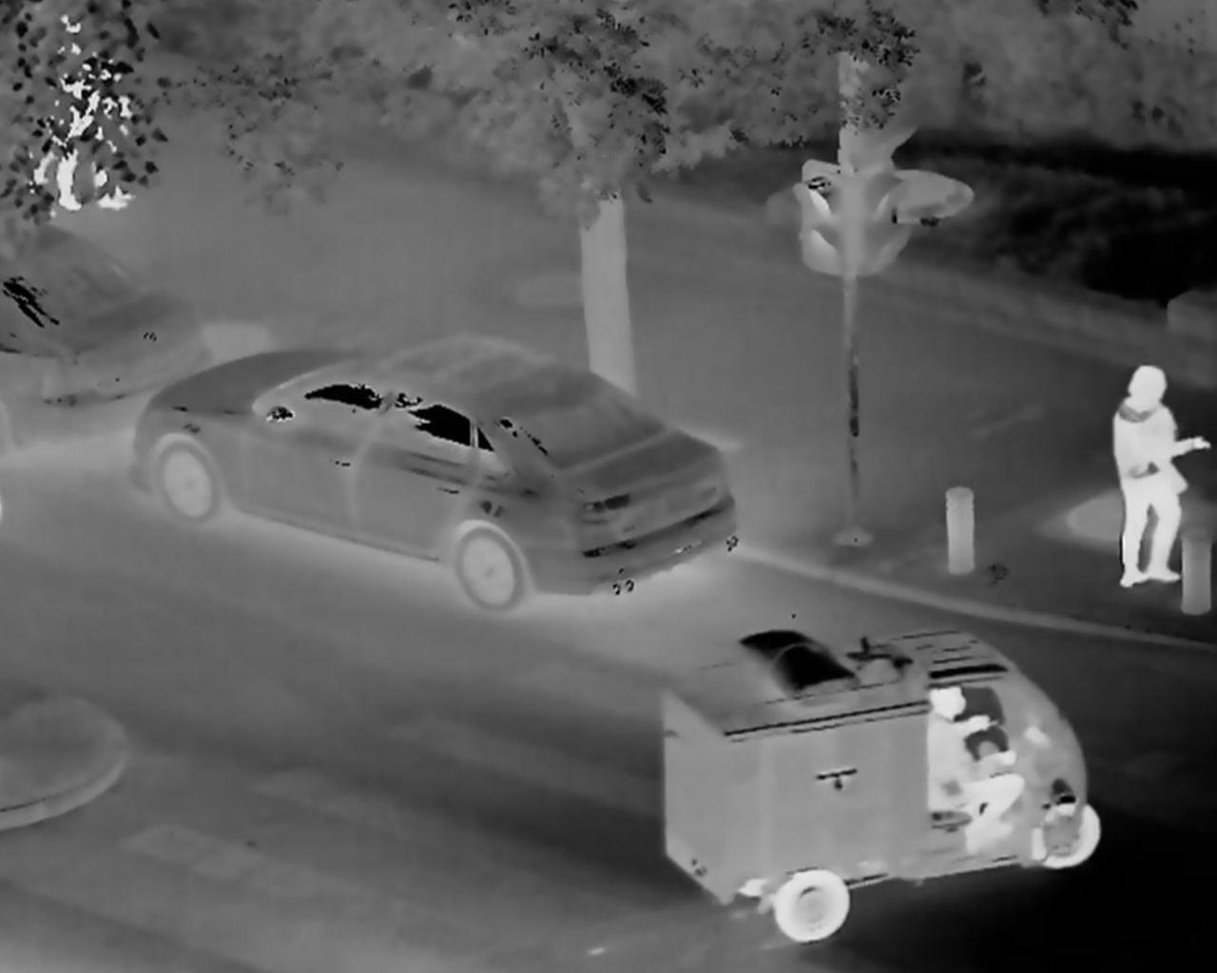person: (1111, 365, 1213, 589), (924, 686, 1029, 854), (75, 33, 139, 213), (43, 21, 89, 211)
